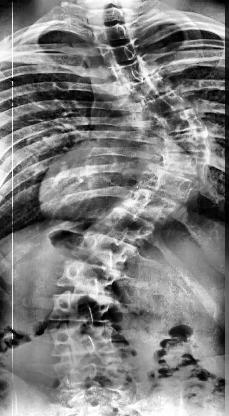Vertebrae: (55, 262, 125, 296), (72, 233, 136, 268), (47, 322, 115, 354), (101, 206, 153, 247), (47, 294, 117, 324), (52, 357, 124, 385), (127, 190, 179, 224), (146, 171, 198, 205), (162, 128, 212, 158), (160, 107, 206, 138), (159, 150, 209, 178), (147, 89, 189, 117), (136, 72, 174, 102), (121, 58, 156, 88), (110, 42, 140, 66), (94, 24, 134, 42)
